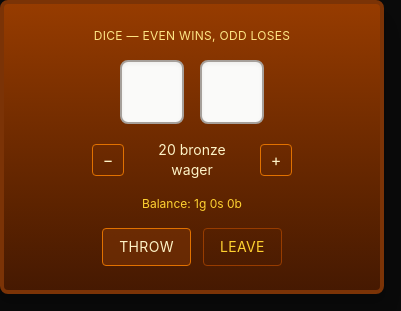
DiceGame › increases and decreases the wager by WAGER_STEP within range
Click the button "+": (276, 160) [260,144,292,176]
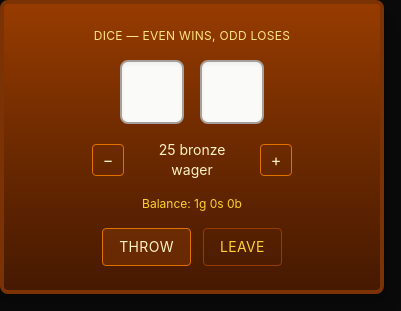
Now the text "25 bronze wager" is shown, box [159,141,225,178]
Click the button "−": (108, 160) [92,144,124,176]
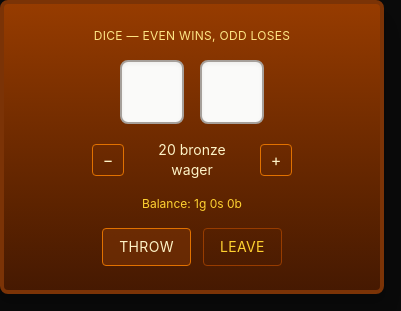
Click the button "−": (108, 160) [92,144,124,176]
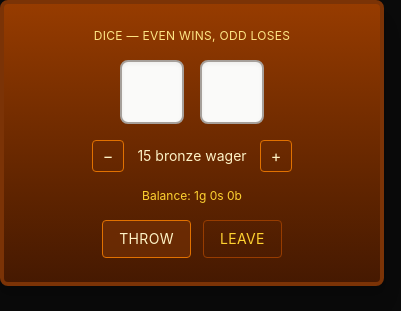
Now the text "15 bronze wager" is shown, box [136,146,248,166]
